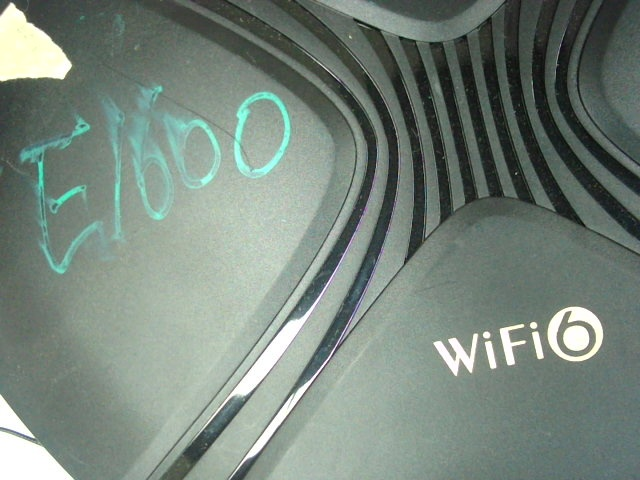AK_ZTEWIFI6Black: (421, 292, 616, 381)
